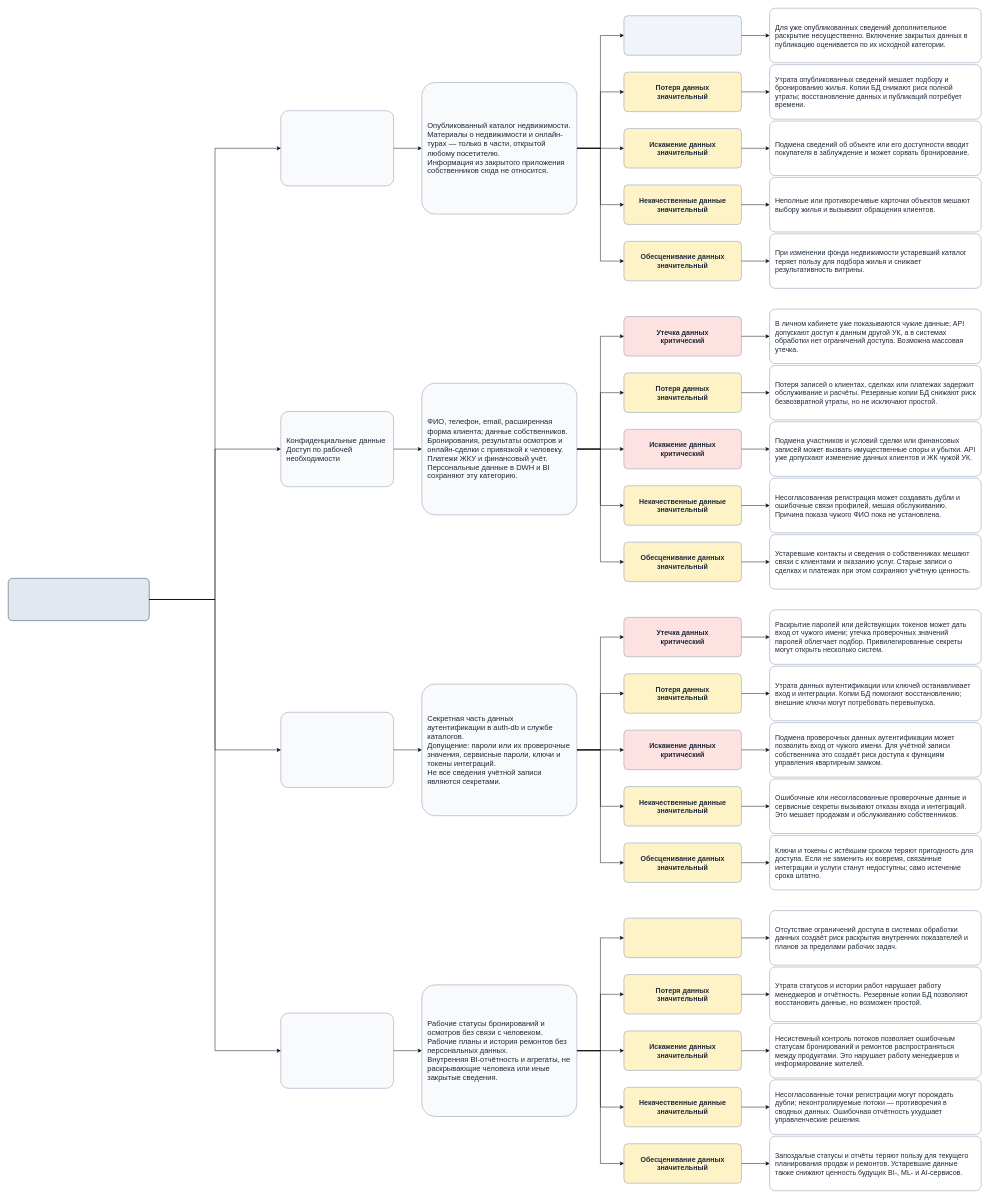
Image size: 990x1199. Some labels were removed from this diagram. Each missing label, with the box of its shape:
Безопасность данных: (8, 578, 149, 621)
Внутренние данные Для работы сотрудников: (280, 1013, 394, 1088)
Публичные данные Для открытого доступа: (280, 110, 394, 186)
Секретные данные Строго ограниченный доступ: (280, 712, 394, 788)
Утечка данных значительный: (623, 918, 741, 958)
Утечка данных незначительный: (623, 15, 741, 55)
